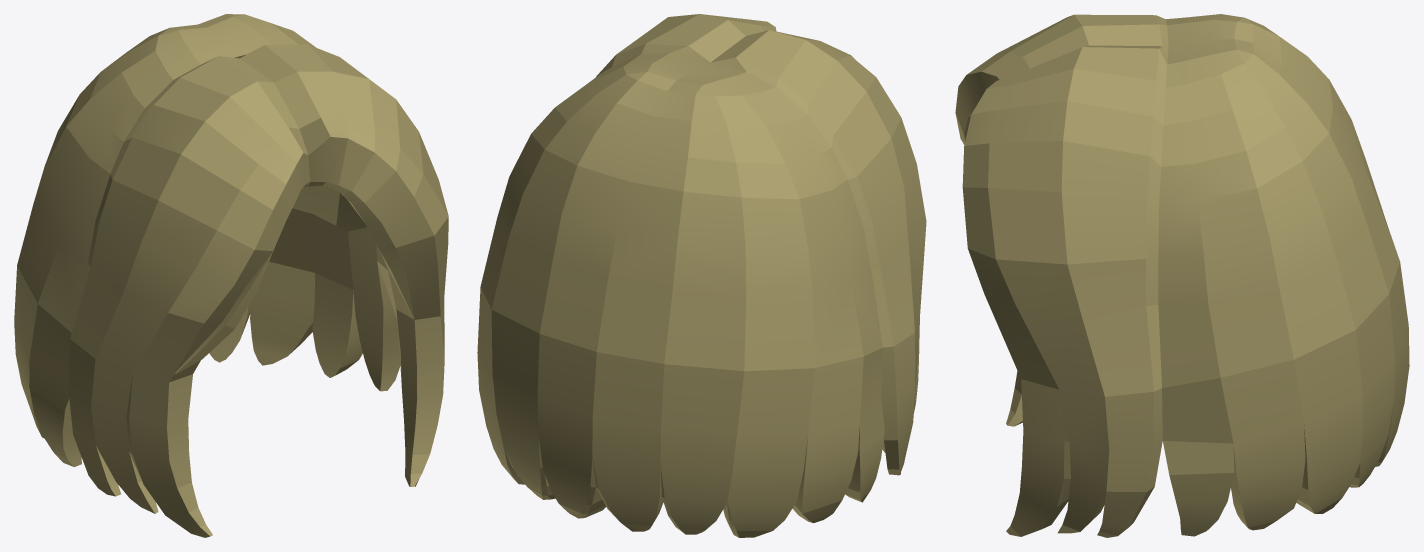
The model's file is hair2.fbx.
The picture shows the model from 3 angles, left to right: view 1: azimuth 30°, elevation 25°; view 2: azimuth 150°, elevation 25°; view 3: azimuth 270°, elevation 25°; orthographic projection. The views are drawn at different scales.
Parts seen in each view (by area): view 1: hair2; view 2: hair2; view 3: hair2.
Boxes of the visible parts, <box> form: hair2: <box>14,14,448,537</box>; hair2: <box>477,14,926,537</box>; hair2: <box>955,14,1409,537</box>.
Size of the model in its own units: 134 by 148 by 137.
